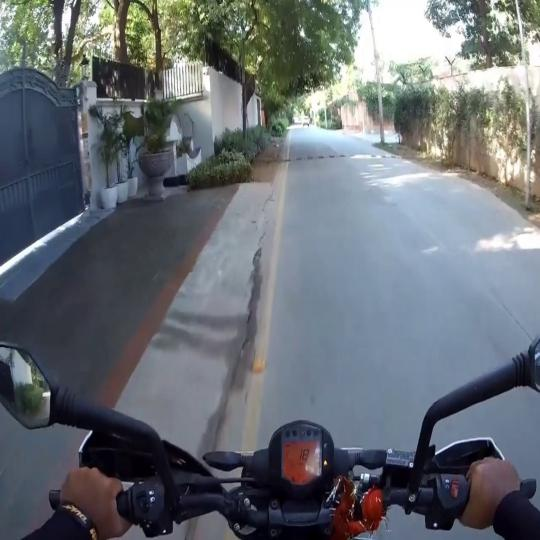Speed Bump: (278, 154, 403, 164)
